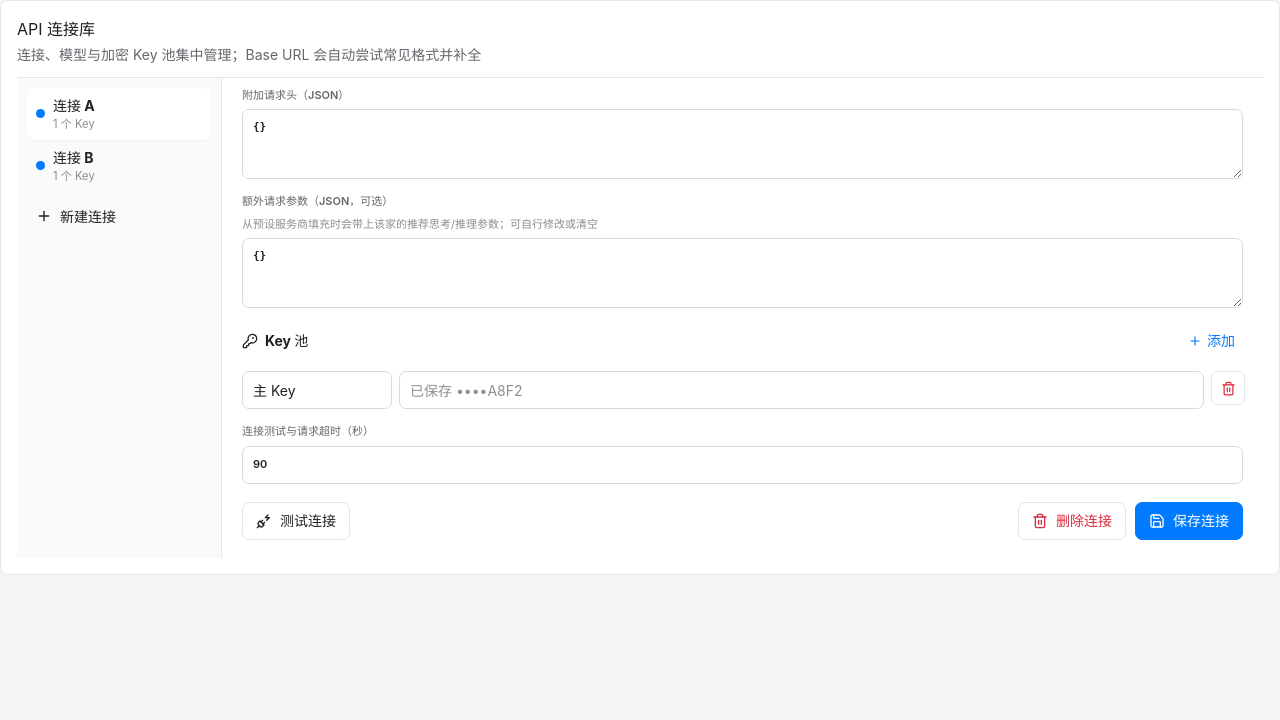
ConnectionsView › reports test failures
(page scrolled)
Click the button "测试连接": coordinates (296, 520) [242, 502, 350, 540]
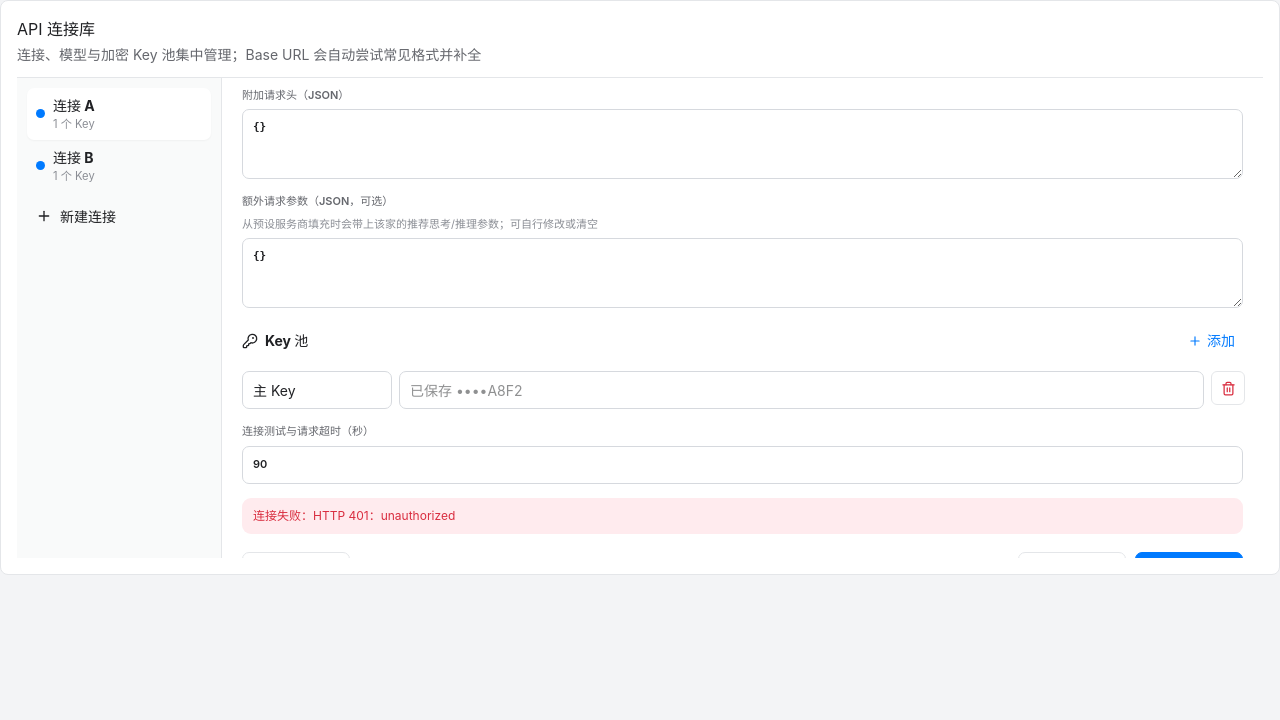
Result: the text "连接失败：HTTP 401：unauthorized" is shown at [242, 498, 1243, 534]
